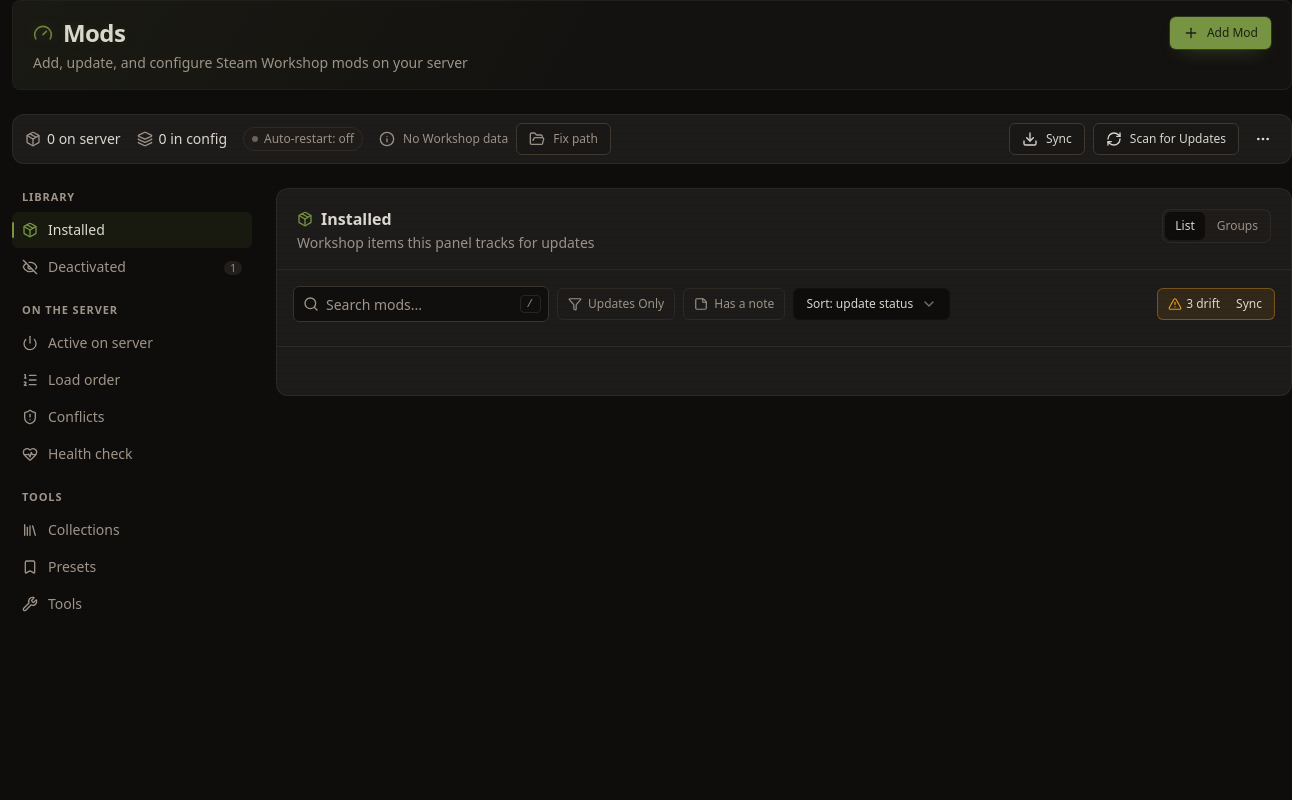
Test: Mods.tsx: collection chip after Sync › refreshes the drift count after a partial sync, not only after a full one
Check: the text "3 drift" is shown, box [1186,296,1220,312]
Note: Not the status bar's "Sync" (tracked mods from the server INI).
Click the button with aria-label "Sync the collection": {"x": 1249, "y": 304} [1228,292,1270,316]
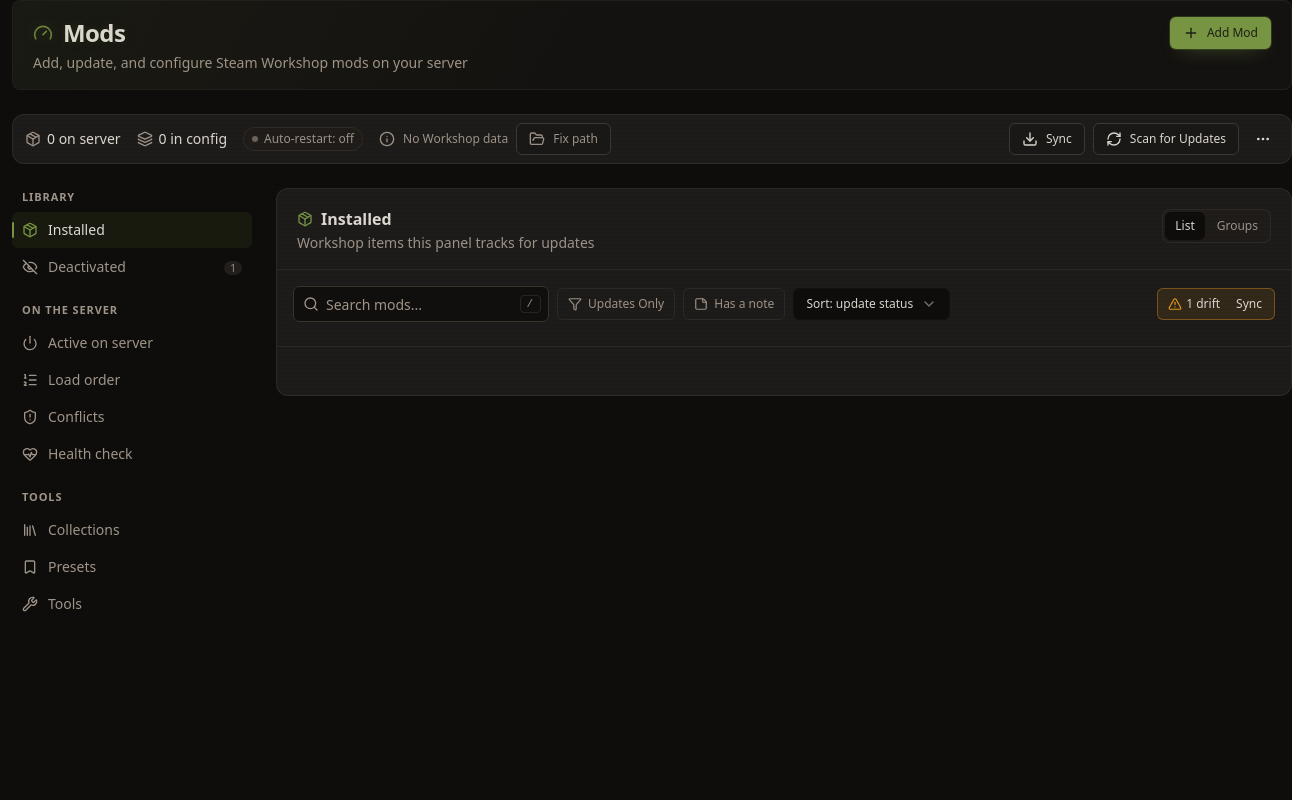
Check: the text "1 drift" is shown, box [1186,296,1220,312]
